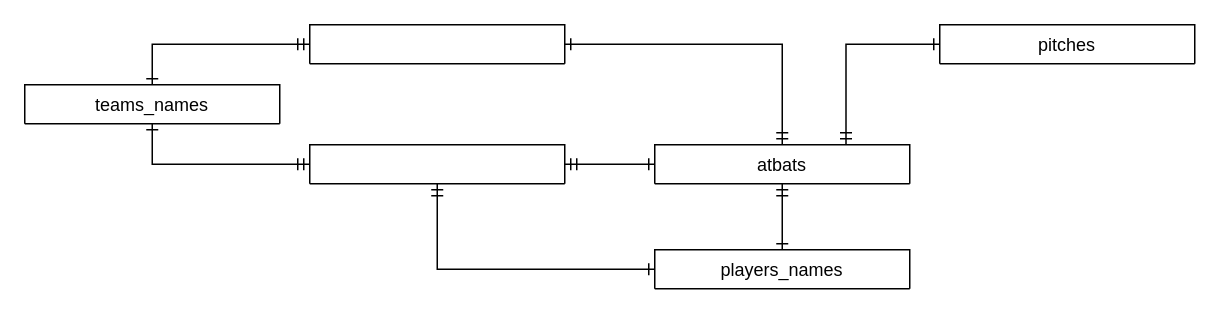
This 1220x314 diagram has some shape labels left out. The centre of each missing label's shape, as x and y in pixels:
"ejections" belongs at [436,163].
"Games" belongs at [436,43].
